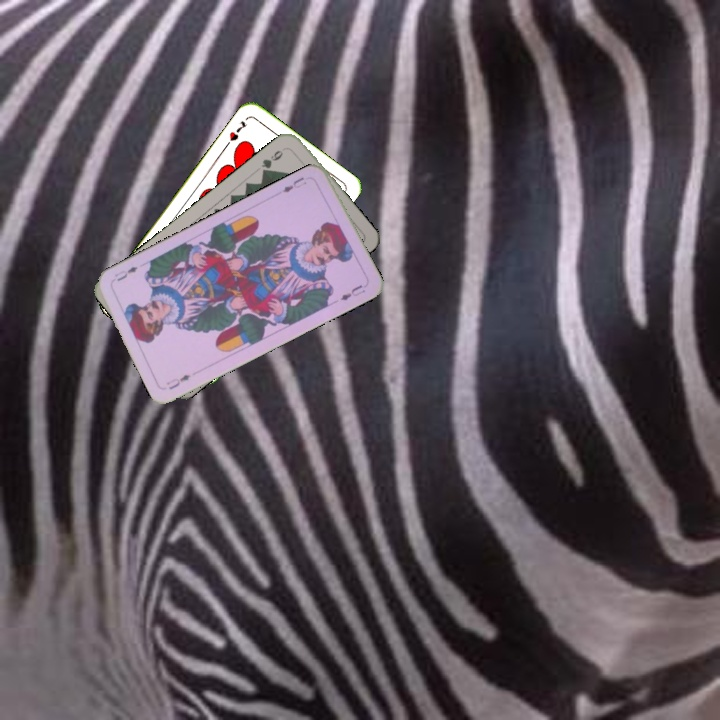EU: (278, 173, 309, 195), (162, 370, 193, 392)
G9: (257, 146, 285, 177)
H7: (222, 117, 250, 149)
